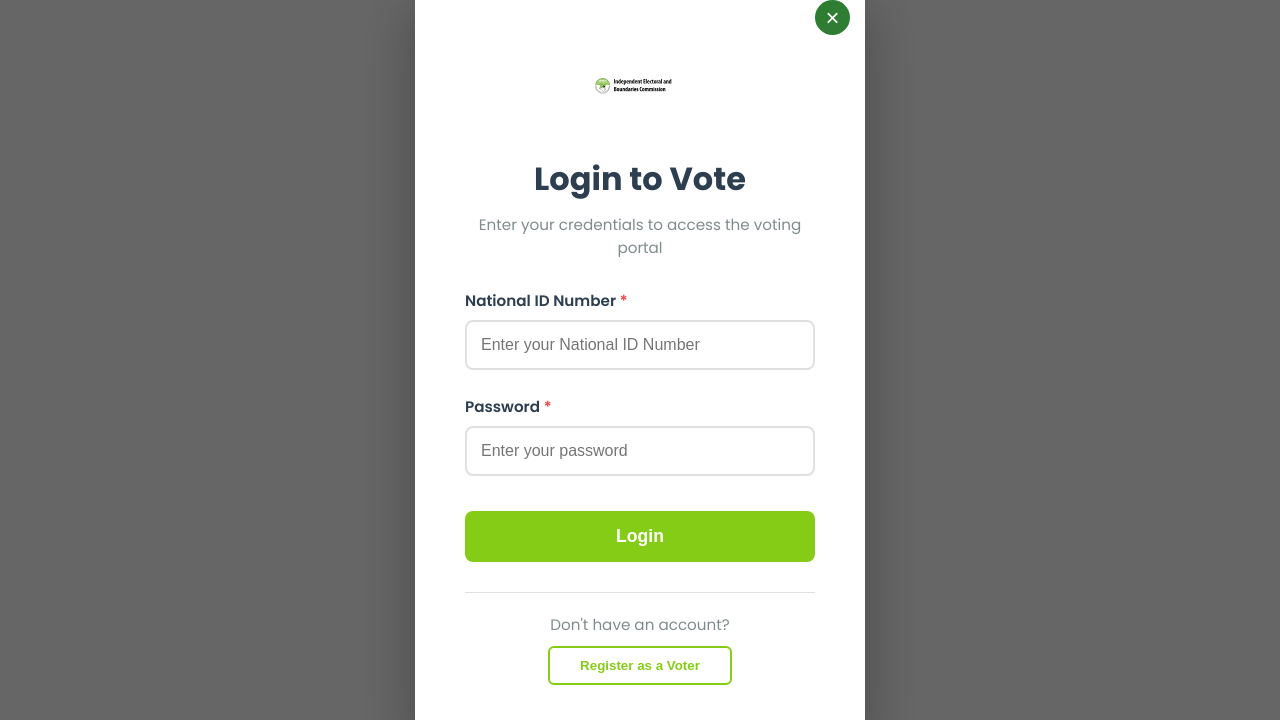
it: login shows the server error for wrong credentials
Type "12345678" into the field with placeholder "Enter your National ID Number" at (640, 345), box [465, 320, 815, 370]
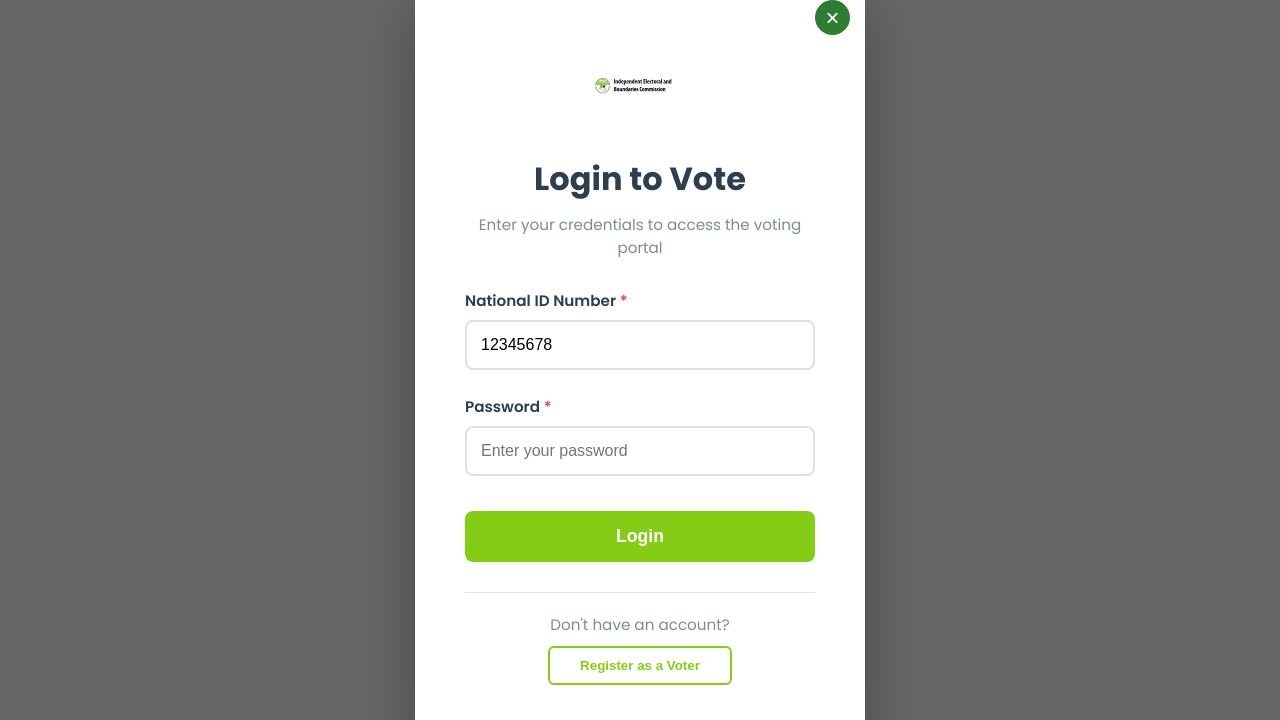
Type "wrong-pass1" into the password field with placeholder "Enter your password" at (640, 451), box [465, 426, 815, 476]
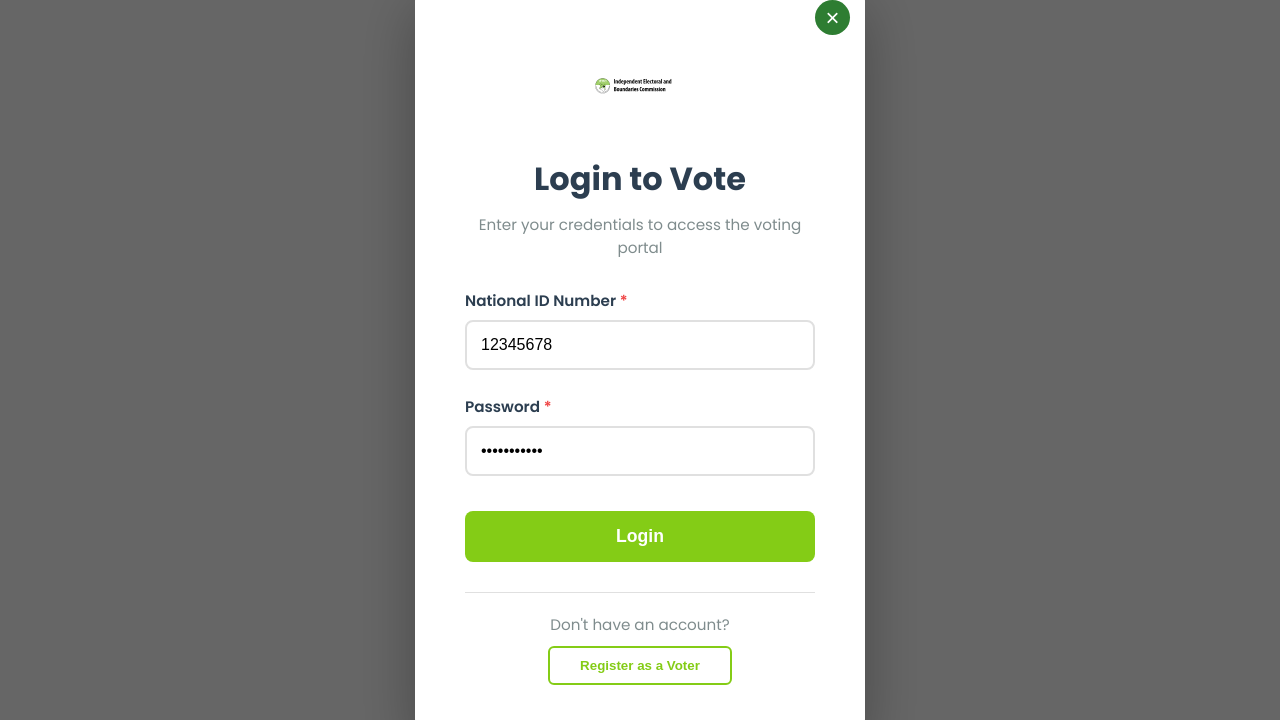
Click the button "Login" at (640, 536), box [465, 511, 815, 562]
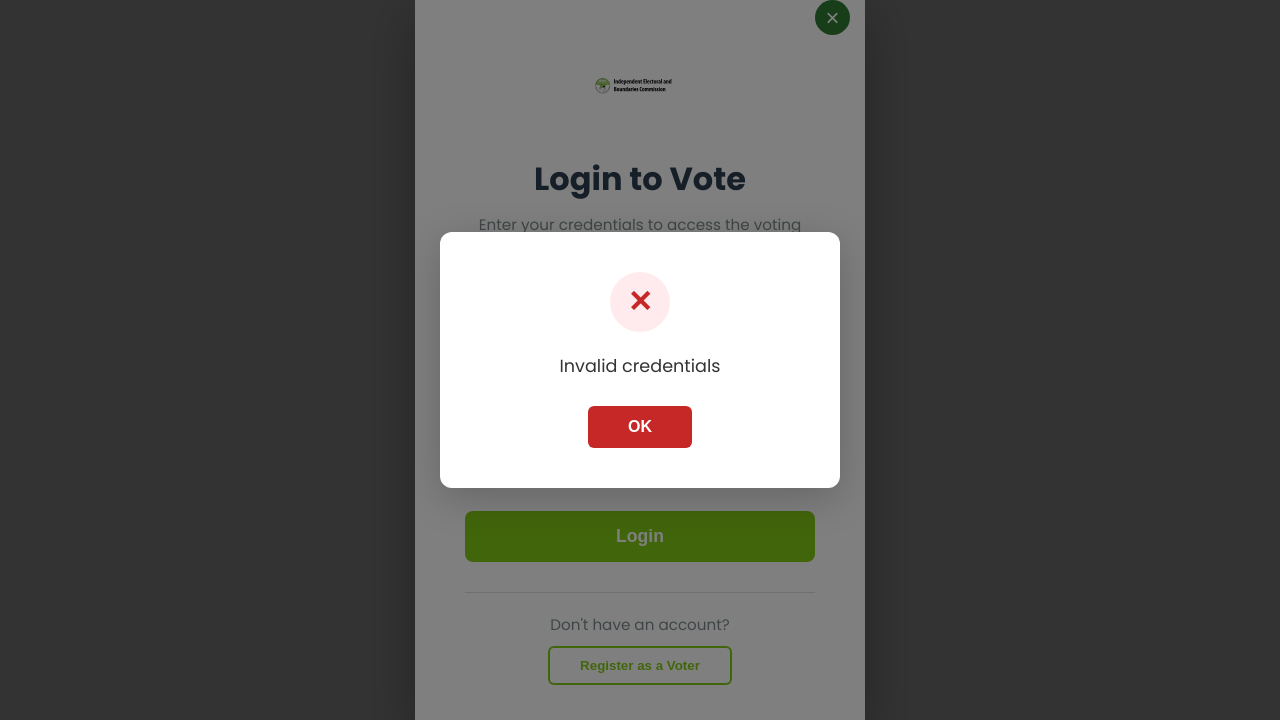
Now the text "Invalid credentials" is shown, box [560, 354, 720, 378]
